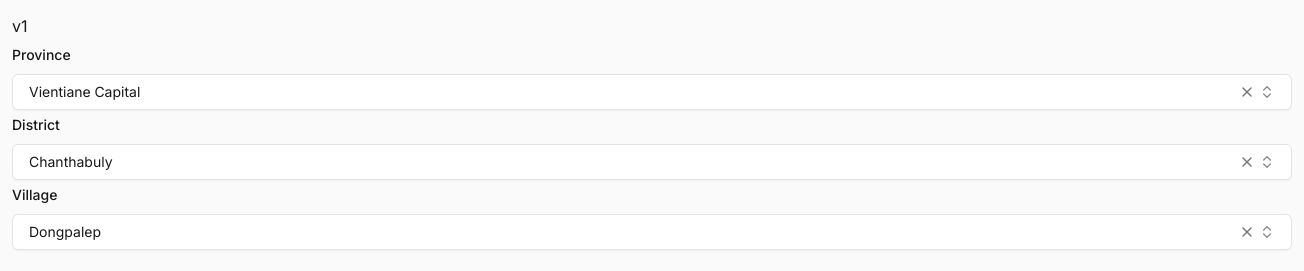
Test case: PlacePickerField › falls back to the district when the village is cleared
The width and height of the screenshot is (1304, 271).
Click the 3rd button named "Remove".
click(1247, 232)  # box top-left (1239, 224), bottom-right (1255, 240)
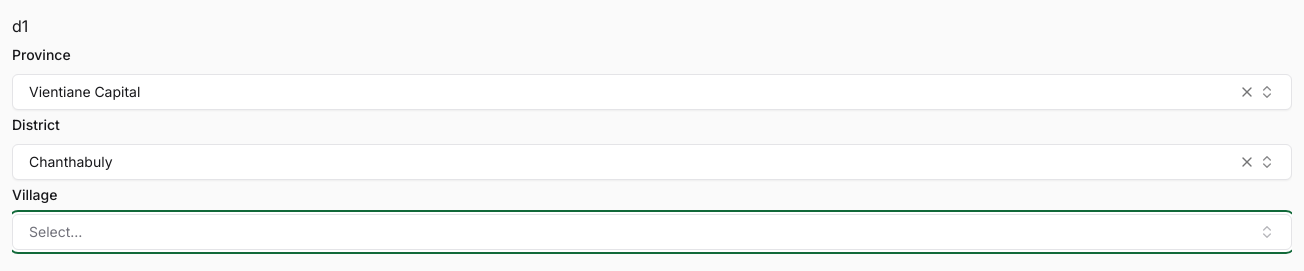
expect the dropdown labelled "Chanthabuly" is shown: met, box top-left (12, 144), bottom-right (1292, 180)
expect the text with test id "value" reads "d1": met, box top-left (12, 13), bottom-right (28, 39)
// …and to the province when the district goes too.
Click the 2nd button named "Remove".
click(1247, 162)  # box top-left (1239, 154), bottom-right (1255, 170)
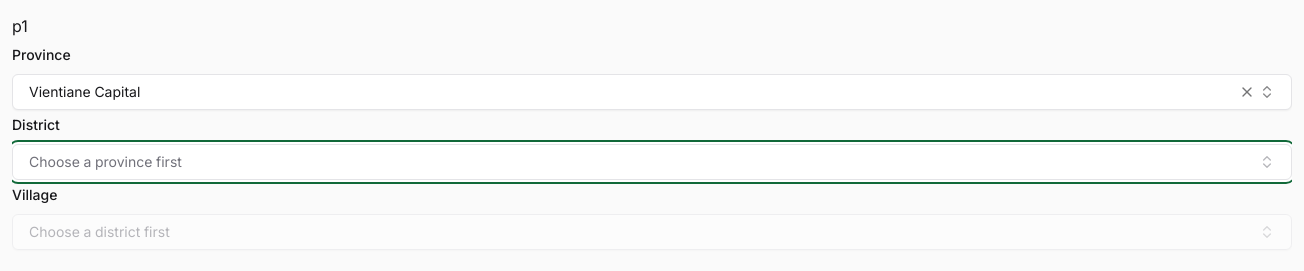
expect the text with test id "value" reads "p1": met, box top-left (12, 13), bottom-right (28, 39)
